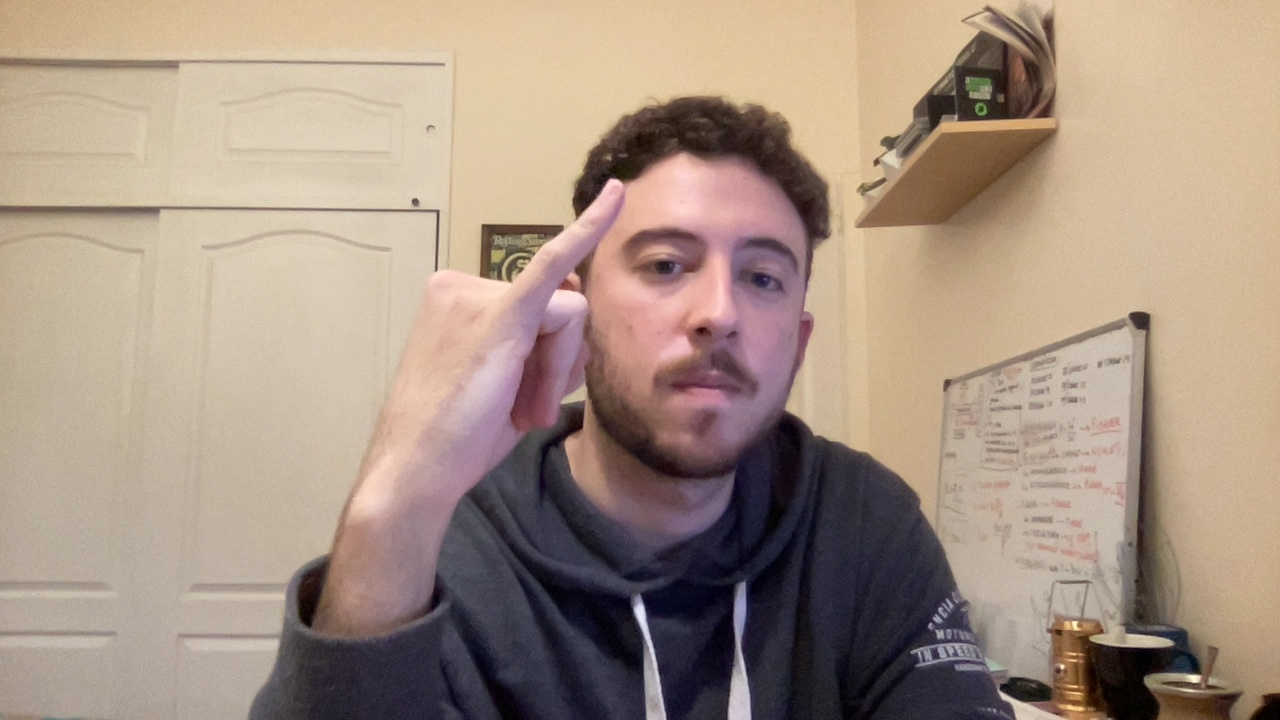menique: (350, 166, 644, 485)
